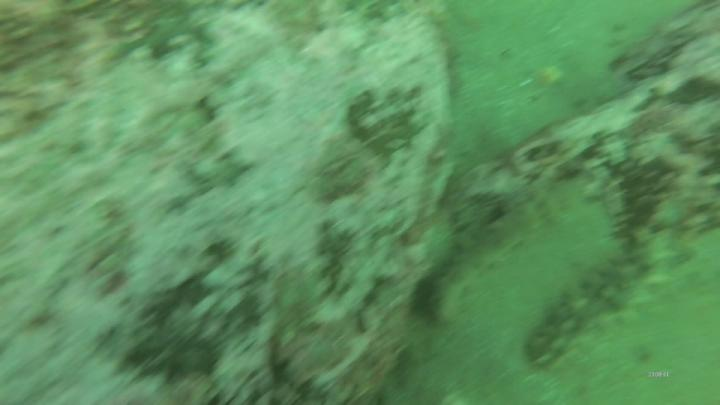holothurian: (525, 230, 675, 369), (428, 200, 547, 320)
